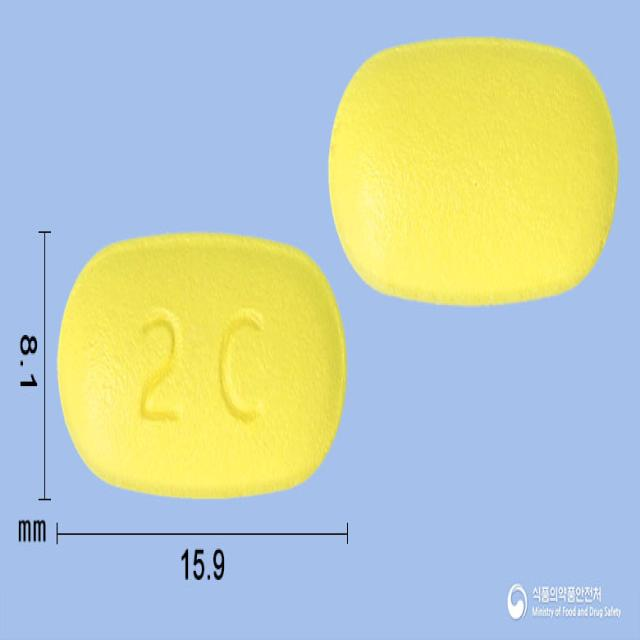Clithocin - 500mg: (52, 229, 348, 506)
